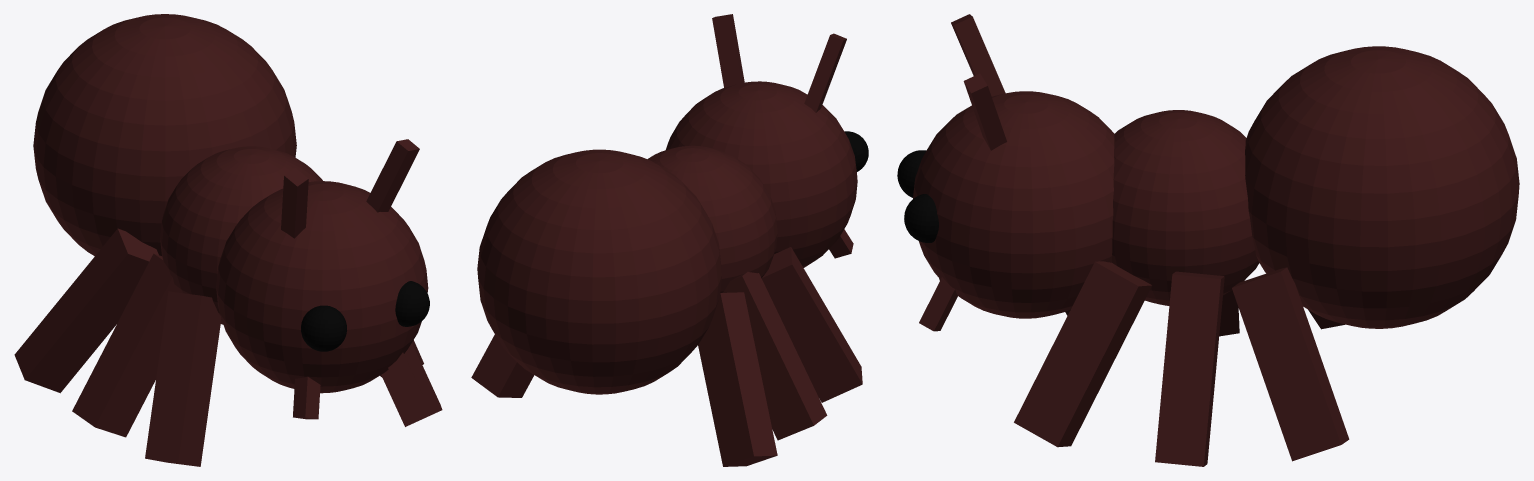
File: ant.glb
3 views of the same model, side by side, from view 1: azimuth 30°, elevation 25°; view 2: azimuth 150°, elevation 25°; view 3: azimuth 270°, elevation 25° (orthographic). The views are drawn at different scales.
Parts seen in each view (by area): view 1: Sphere, Sphere.002, Sphere.001, Cube.004, Cube.002, Cube.003, Cube.005, Cube.001, Sphere.003, Cube, Sphere.004, Cube.009 (+1 smaller); view 2: Sphere, Sphere.002, Cube.004, Sphere.001, Cube.002, Cube.003, Cube.007, Cube.001, Cube, Sphere.003, Cube.009; view 3: Sphere, Sphere.002, Sphere.001, Cube.005, Cube.007, Cube.006, Cube, Cube.001, Sphere.004, Cube.008, Sphere.003, Cube.003.
Part boxes in pixels (bbox=[...]): Sphere: bbox=[33, 14, 296, 256]; Sphere.002: bbox=[216, 181, 428, 393]; Sphere.001: bbox=[160, 146, 322, 324]; Cube.004: bbox=[14, 228, 158, 393]; Cube.002: bbox=[145, 291, 221, 466]; Cube.003: bbox=[72, 253, 178, 437]; Cube.005: bbox=[381, 343, 442, 426]; Cube.001: bbox=[366, 139, 419, 212]; Sphere.003: bbox=[301, 305, 346, 351]; Cube: bbox=[281, 167, 308, 238]; Sphere.004: bbox=[395, 281, 429, 326]; Cube.009: bbox=[293, 376, 320, 419]; Sphere: bbox=[477, 149, 721, 394]; Sphere.002: bbox=[666, 81, 857, 267]; Cube.004: bbox=[698, 292, 777, 466]; Sphere.001: bbox=[647, 145, 777, 292]; Cube.002: bbox=[761, 247, 862, 402]; Cube.003: bbox=[722, 272, 827, 440]; Cube.007: bbox=[471, 334, 534, 397]; Cube.001: bbox=[712, 14, 744, 87]; Cube: bbox=[804, 33, 846, 112]; Sphere.003: bbox=[844, 131, 868, 171]; Cube.009: bbox=[829, 229, 853, 258]; Sphere: bbox=[1245, 46, 1519, 328]; Sphere.002: bbox=[913, 91, 1114, 318]; Sphere.001: bbox=[1112, 110, 1259, 305]; Cube.005: bbox=[1014, 261, 1152, 447]; Cube.007: bbox=[1232, 267, 1349, 461]; Cube.006: bbox=[1155, 271, 1224, 466]; Cube: bbox=[951, 14, 1005, 96]; Cube.001: bbox=[963, 73, 1006, 150]; Sphere.004: bbox=[904, 194, 938, 242]; Cube.008: bbox=[919, 277, 957, 331]; Sphere.003: bbox=[897, 150, 926, 197]; Cube.003: bbox=[1219, 290, 1239, 336].
Bounding box in the file's own units: 0.8764 × 0.854 × 1.35.
